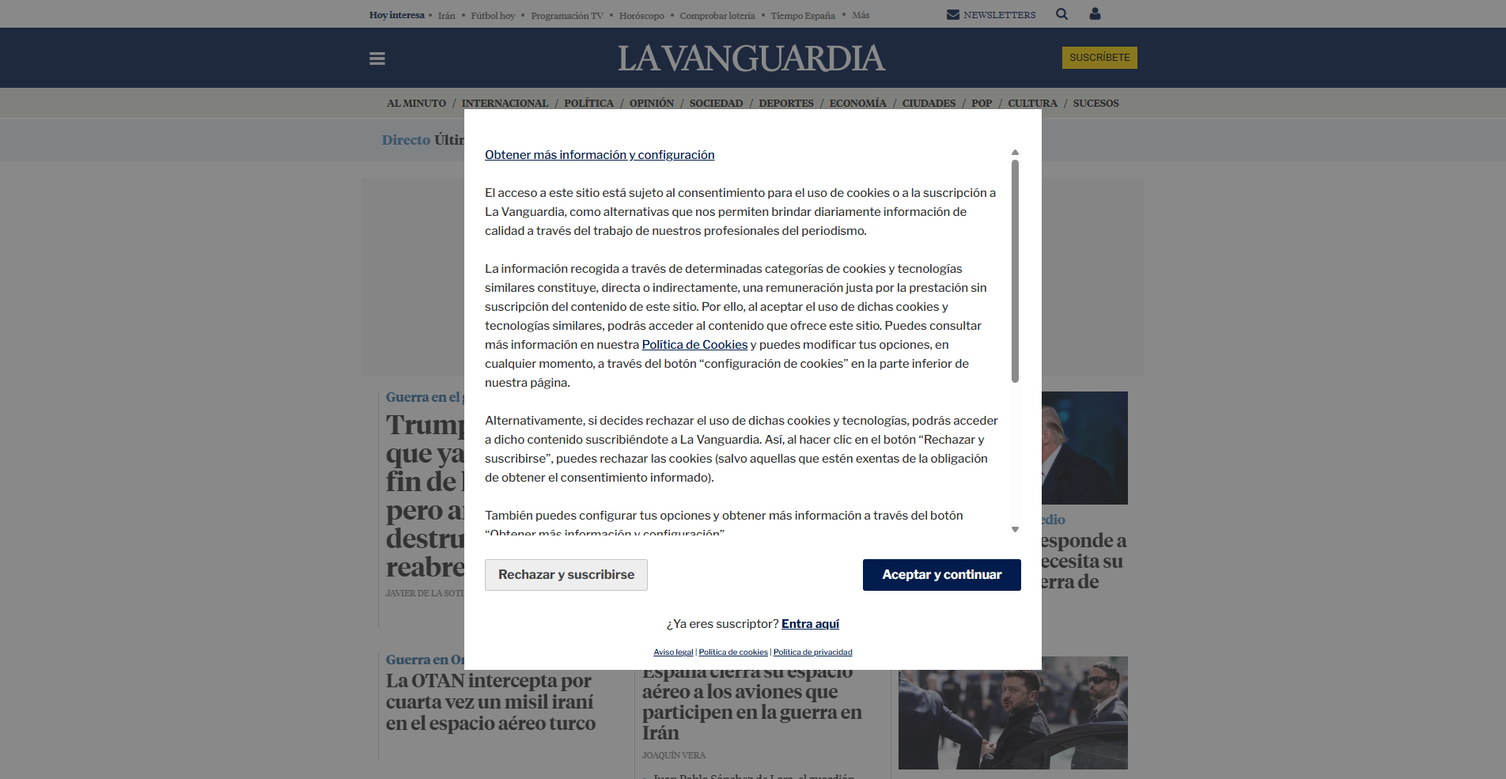button: (485, 559, 1021, 591), (485, 559, 648, 591), (863, 559, 1021, 591), (917, 52, 1010, 87), (935, 0, 1044, 28), (1029, 58, 1145, 77), (677, 566, 797, 580), (1063, 47, 1137, 69), (1076, 0, 1110, 28), (1044, 0, 1076, 28), (485, 110, 512, 142)
dropdown: (844, 6, 877, 23)
input: (361, 51, 914, 87)
label: (369, 48, 386, 68)
link: (386, 410, 615, 581), (642, 661, 872, 743), (899, 531, 1128, 613), (386, 669, 596, 735), (619, 34, 886, 81), (434, 119, 654, 161), (485, 148, 715, 162), (454, 88, 556, 119), (379, 88, 454, 119), (822, 88, 894, 119), (751, 88, 822, 119), (894, 88, 964, 119), (682, 88, 751, 119), (556, 88, 622, 119), (1000, 88, 1065, 119), (1065, 88, 1127, 119), (622, 88, 682, 119), (672, 7, 763, 25), (523, 7, 611, 25), (642, 338, 748, 352), (763, 7, 843, 25), (652, 773, 872, 779), (964, 88, 1000, 119), (611, 7, 672, 25), (463, 7, 523, 25), (773, 647, 852, 656), (699, 647, 768, 656), (430, 7, 463, 25), (654, 647, 693, 656)
